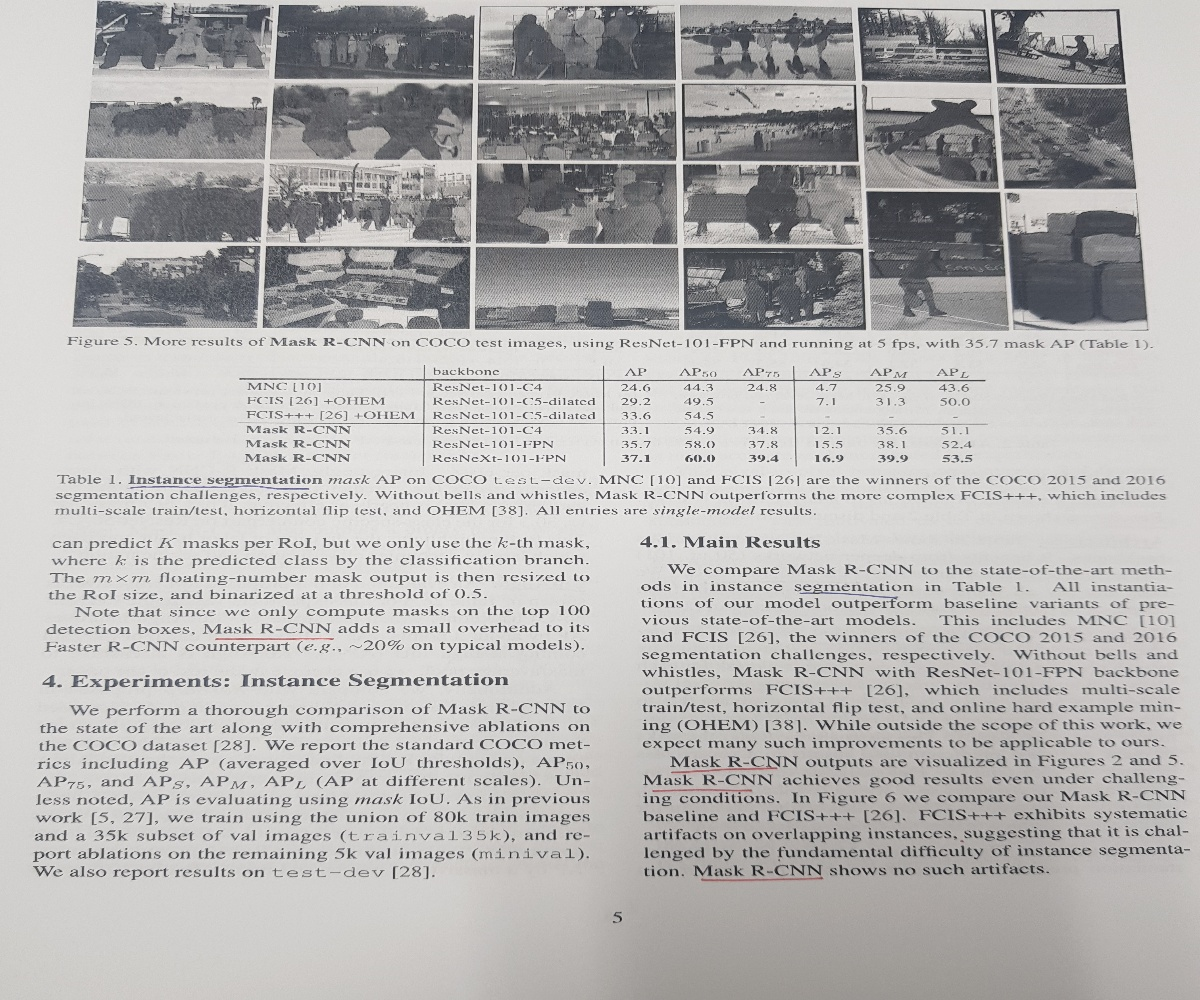underline: (126, 482, 310, 492), (209, 633, 339, 642), (796, 589, 901, 600), (698, 874, 823, 883), (668, 764, 779, 774), (650, 786, 755, 796)
